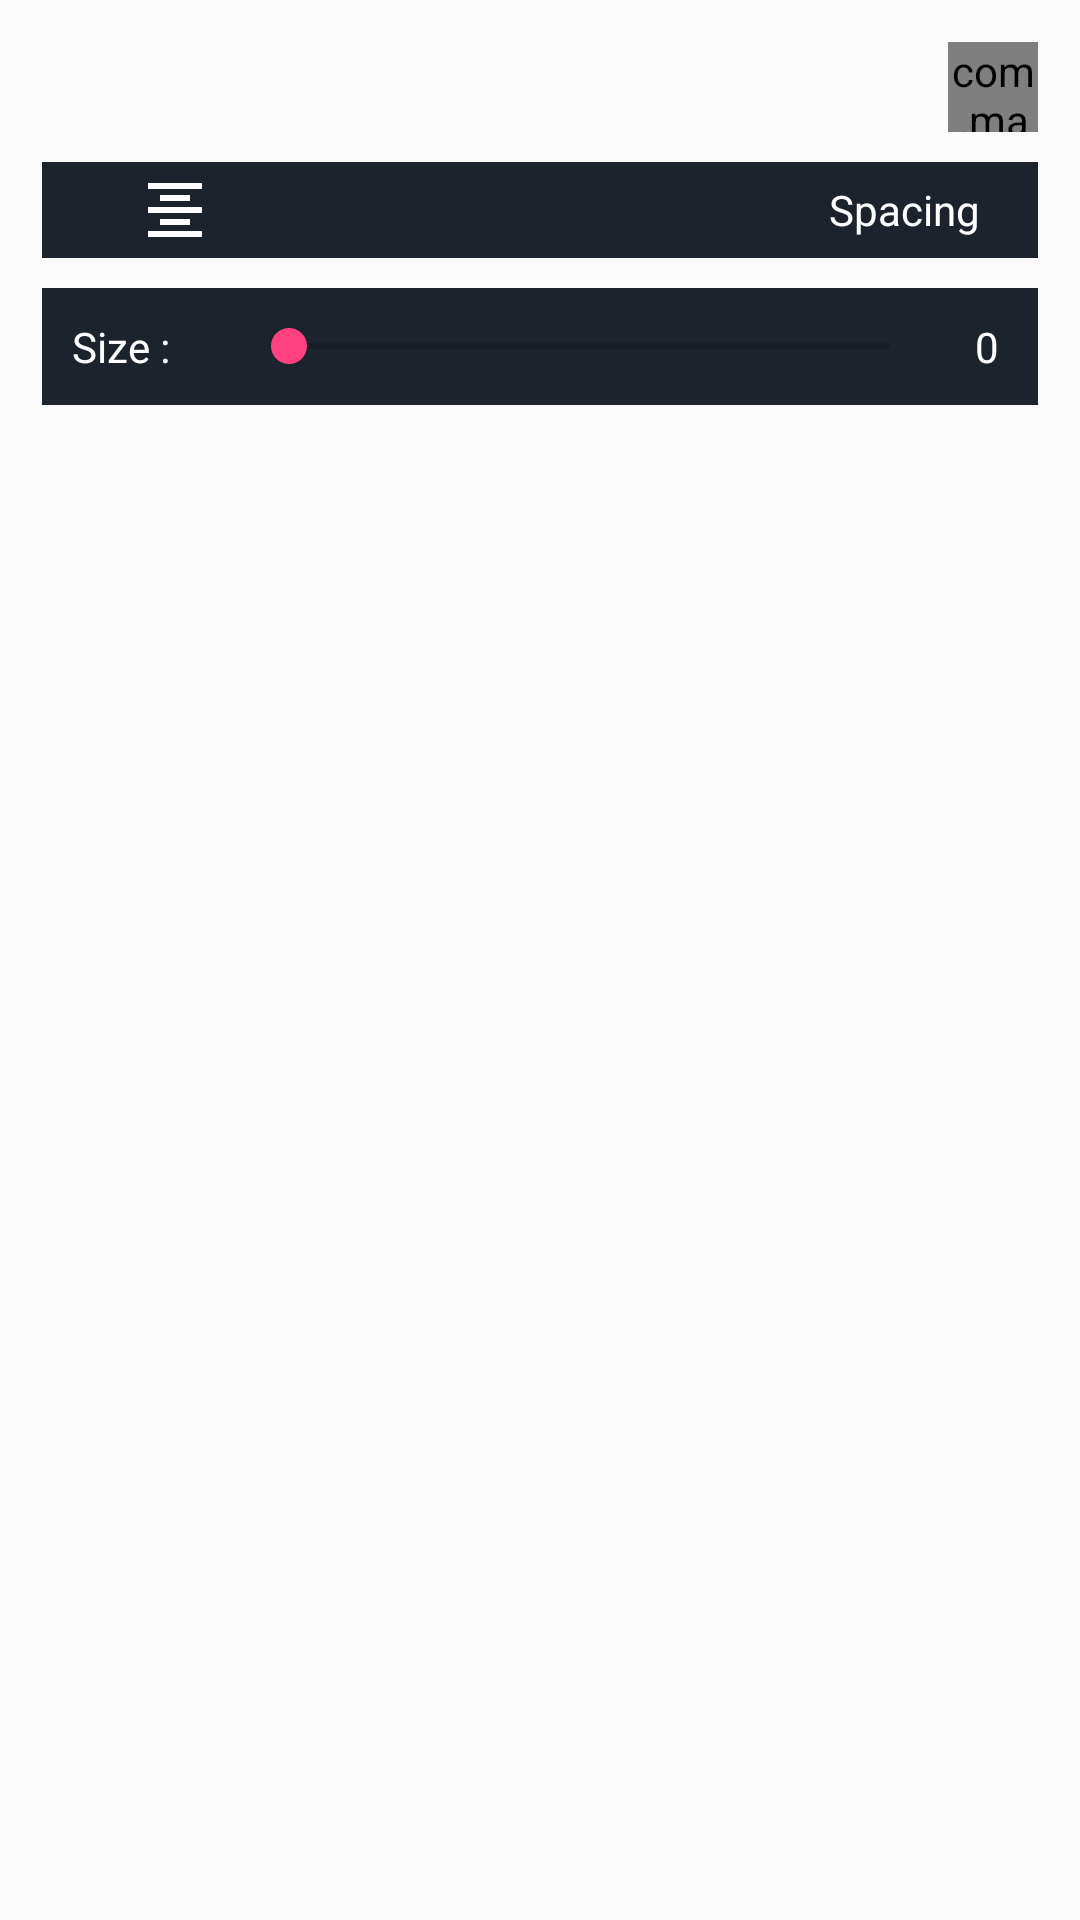

Icons on this 1080px x 1920px Android screen, each with its box as (left=x1, top=y1, right=x2, bottom=y2):
format align center: (left=148, top=183, right=202, bottom=237)
